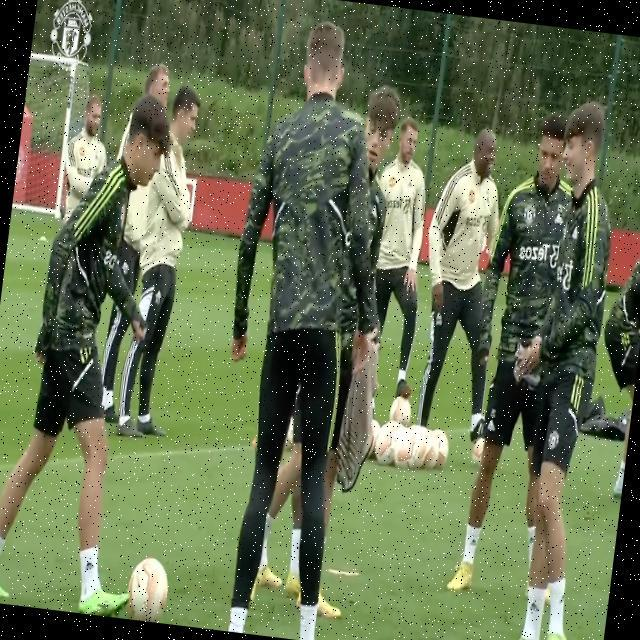Adidas: (83, 556, 95, 573), (552, 211, 565, 226), (486, 416, 497, 433), (529, 598, 540, 614), (467, 533, 477, 548)
